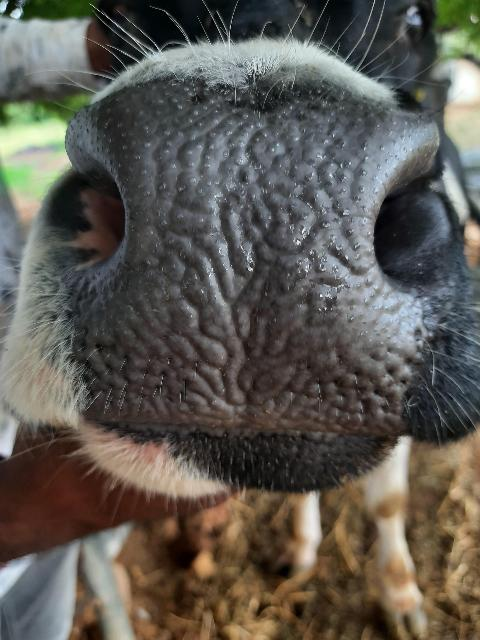Muzzle: (96, 100, 398, 422)
